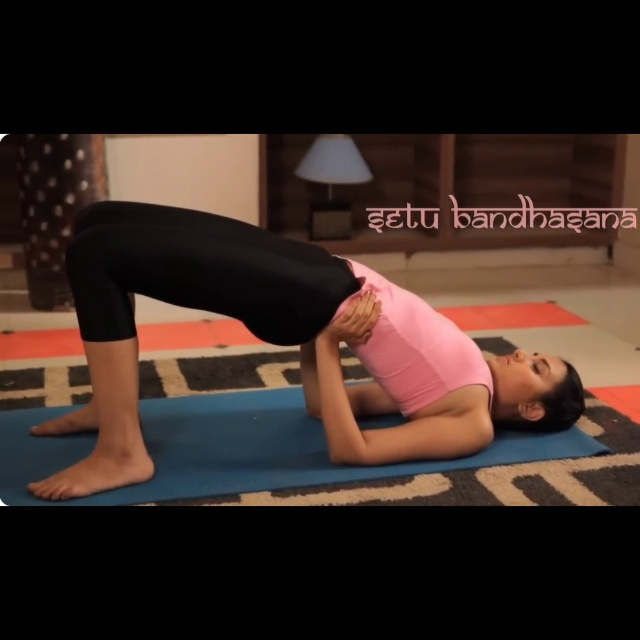Bridge_Pose: (29, 198, 588, 505)
